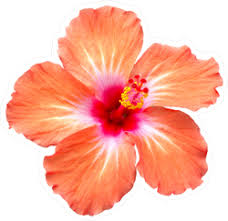hybiscus: (9, 6, 223, 218)
